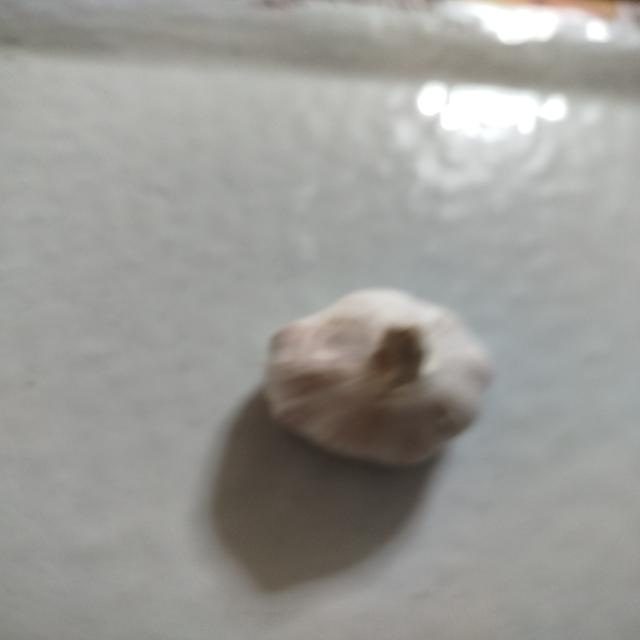garlic: (262, 287, 494, 469)
